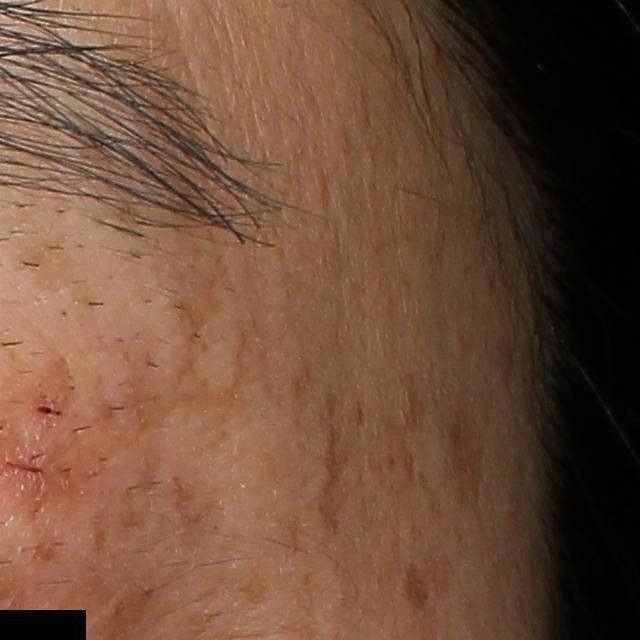melasma: (238, 571, 273, 608)
